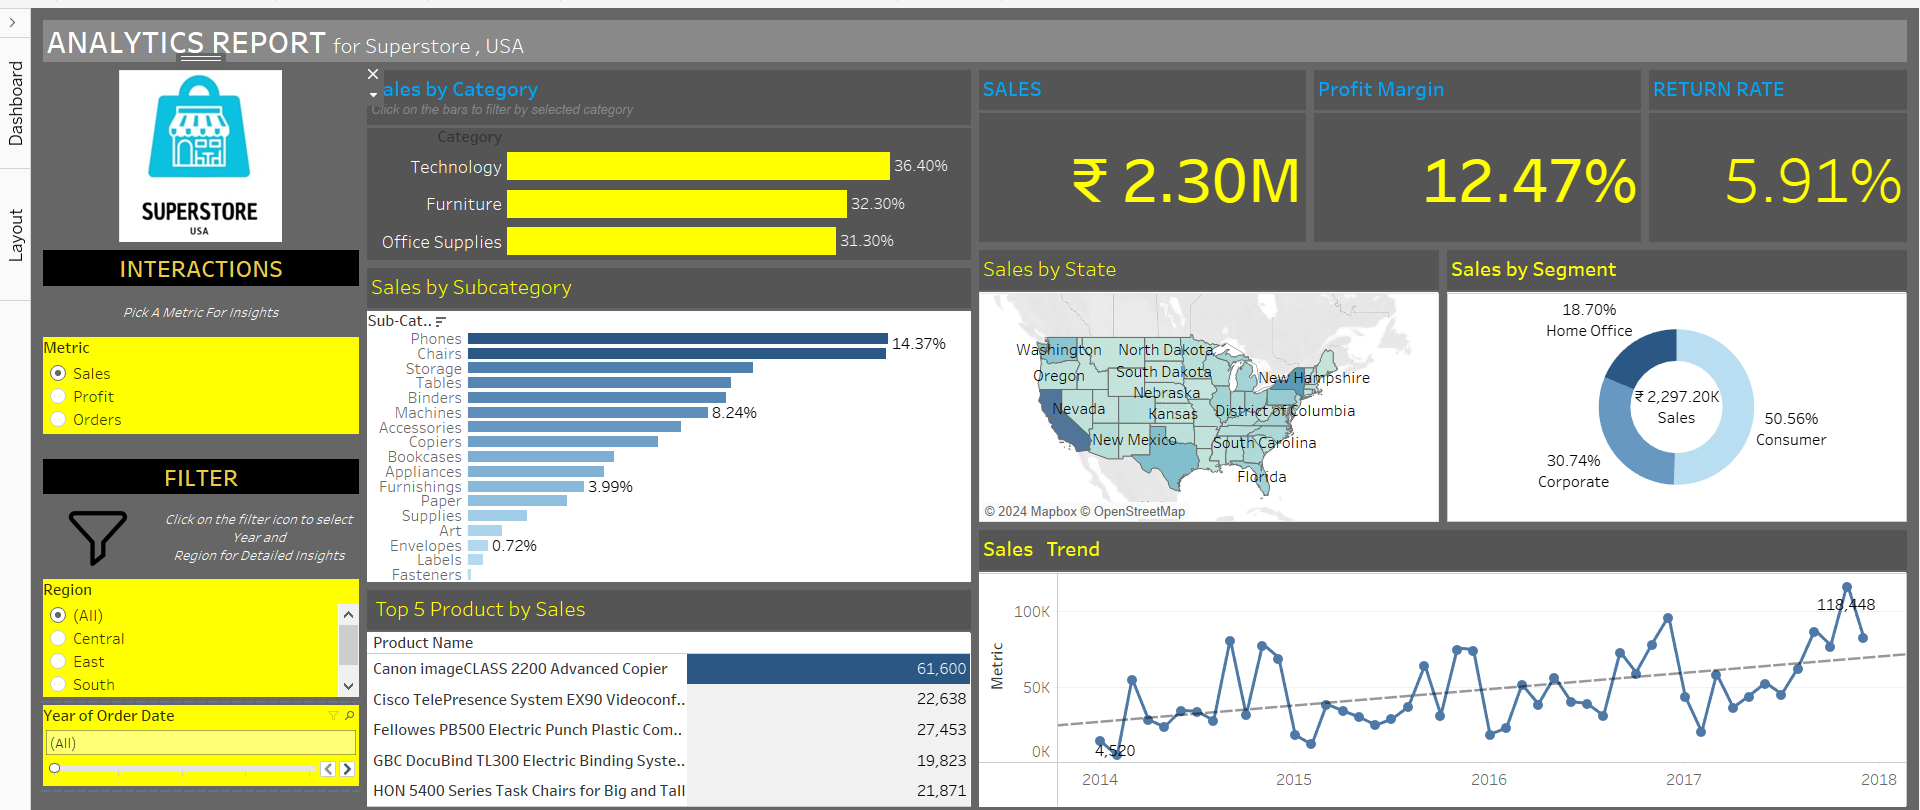

Layout of this report page (visuals, bound fields, positions):
{"tool":"tableau","page":{"name":"Assignment 7","canvas":[1000,1000],"units":"permille","ordinal":1},"visuals":[{"type":"title","box":[4.8,9.9,990.3,61.6]},{"type":"image","param":"Image/Screenshot 2024-07-21 171453.jpg","box":[4.8,71.5,171.2,222]},{"type":"worksheet","title":"Sales by Category","mark":"Automatic","rows":["Category"],"cols":["Calculation_560416721827622914"],"box":[176.1,71.5,323.9,243.9]},{"type":"worksheet","title":"SALES","mark":"Automatic","box":[500,71.5,177.1,222]},{"type":"worksheet","title":"PROFIT MARGIN","mark":"Automatic","box":[677.1,71.5,177.2,222]},{"type":"worksheet","title":"RETURN RATE","mark":"Automatic","box":[854.2,71.5,140.9,222]},{"type":"text","box":[4.8,293.5,171.2,53.9]},{"type":"worksheet","title":"Sales by State","mark":"Automatic","box":[500,293.5,247.6,344.9]},{"type":"worksheet","title":"Sales by Segment Donut","mark":"Pie","rows":["Calculation_560416721835589636","Calculation_560416721835659270"],"box":[747.6,293.5,247.6,344.9]},{"type":"worksheet","title":"Sales by Subcategory","mark":"Automatic","rows":["Sub-Category"],"cols":["Calculation_560416721827622914"],"box":[176.1,315.4,323.9,397.1]},{"type":"text","box":[4.8,347.4,171.2,53.8]},{"type":"parameter","param":"[Parameters].[Parameter 2]","box":[4.8,401.2,171.2,129.5]},{"type":"text","box":[4.8,551,171.2,53.8]},{"type":"dashboard-object","box":[4.8,604.8,61.6,94.3]},{"type":"text","box":[66.5,604.8,109.6,94.3]},{"type":"worksheet","title":"Sales Trend","mark":"Automatic","rows":["Calculation_560416721827622914","Calculation_560416721827622914"],"cols":["Order Date"],"box":[500,638.4,495.2,351.7]},{"type":"filter","title":"Sales by State","param":"[federated.0g9yfpb1pchr6a13u81zt1u383jo].[none:Region:nk]","box":[4.8,699.1,171.2,155.4]},{"type":"worksheet","title":"Product by Sales","mark":"Square","rows":["Product Name"],"box":[176.1,712.5,323.9,277.6]},{"type":"filter","title":"Sales Trend","param":"[federated.0g9yfpb1pchr6a13u81zt1u383jo].[yr:Order Date:ok]","box":[4.8,854.5,171.2,109.7]}]}

Visuals, with their boxes on the dashboard's canvas, which has no fixed pixel size, in thousandths of its width and height (x1, y1, x2, y2). These are canvas units, not pixel positions in the 1920x810 screenshot, which may show the page scaled, cropped or inside an application window:
title: (5,10,995,72)
image: (5,72,176,294)
"Sales by Category" worksheet: (176,72,500,315)
"SALES" worksheet: (500,72,677,294)
"PROFIT MARGIN" worksheet: (677,72,854,294)
"RETURN RATE" worksheet: (854,72,995,294)
text: (5,294,176,347)
"Sales by State" worksheet: (500,294,748,638)
"Sales by Segment Donut" worksheet (Pie marks): (748,294,995,638)
"Sales by Subcategory" worksheet: (176,315,500,712)
text: (5,347,176,401)
parameter: (5,401,176,531)
text: (5,551,176,605)
dashboard-object: (5,605,66,699)
text: (66,605,176,699)
"Sales Trend" worksheet: (500,638,995,990)
"Sales by State" filter: (5,699,176,854)
"Product by Sales" worksheet (Square marks): (176,712,500,990)
"Sales Trend" filter: (5,854,176,964)
